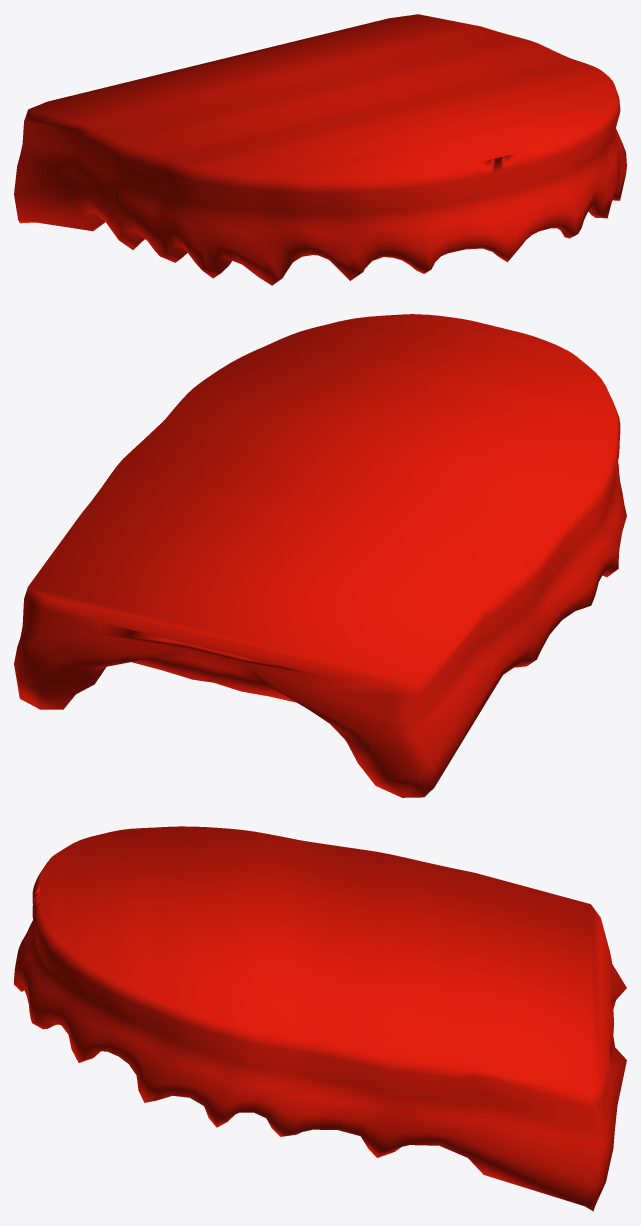
3 views of the same model, one above another, from view 1: azimuth 30°, elevation 25°; view 2: azimuth 150°, elevation 25°; view 3: azimuth 270°, elevation 25° (orthographic).
Visible parts, largest first — view 1: Caine.Denture.035; view 2: Caine.Denture.035; view 3: Caine.Denture.035.
Part boxes in pixels (left/top/right/bottom): Caine.Denture.035: left=14, top=14, right=626, bottom=285; Caine.Denture.035: left=14, top=314, right=626, bottom=797; Caine.Denture.035: left=14, top=826, right=626, bottom=1211.
Bounding box in the file's own units: 0.4587 × 0.2258 × 0.5602.
